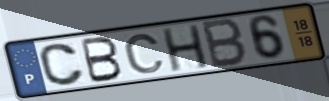6: (247, 14, 288, 62)
B: (201, 17, 249, 71), (79, 35, 125, 85)
C: (37, 42, 87, 88), (122, 33, 167, 76)
H: (160, 22, 212, 74)
